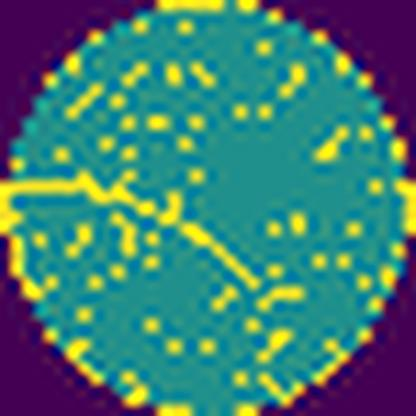Scratch: (0, 165, 263, 293)
